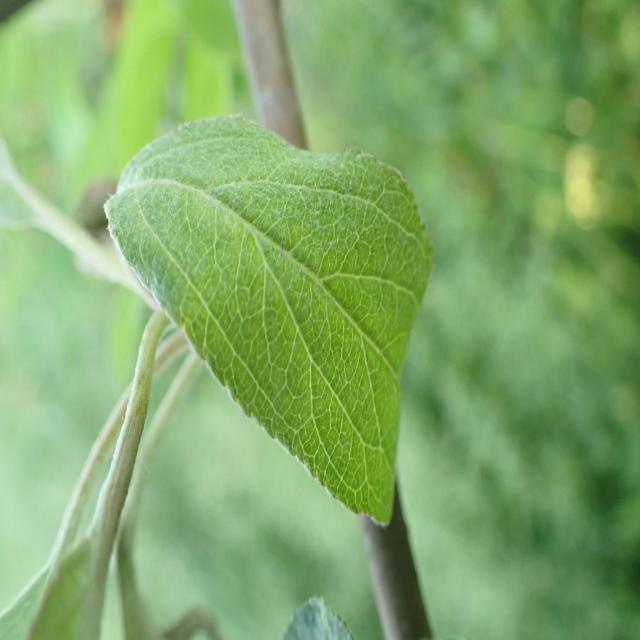Powdery_mildew: (104, 125, 403, 401)
